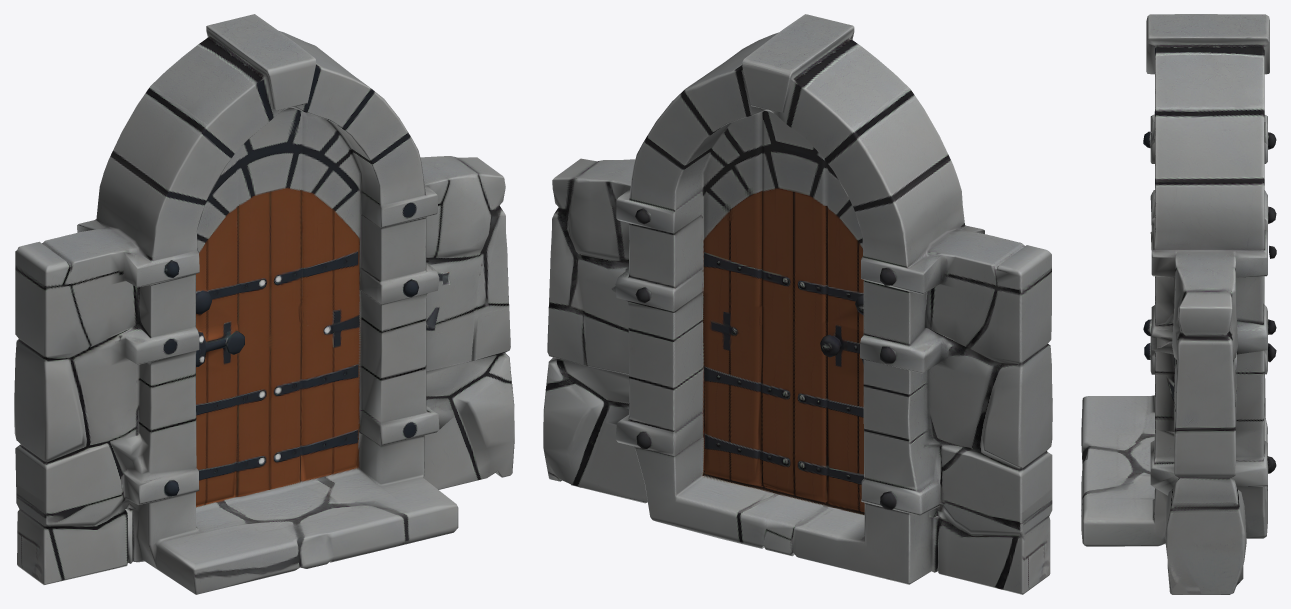
The model's file is board_crypt_door.glb.
3 renders of one model, left to right at view 1: azimuth 30°, elevation 25°; view 2: azimuth 150°, elevation 25°; view 3: azimuth 270°, elevation 25°, orthographic. The views are drawn at different scales.
Bounding box in the file's own units: 1.91 × 1.87 × 0.7162.
1 material, 1 textured.
